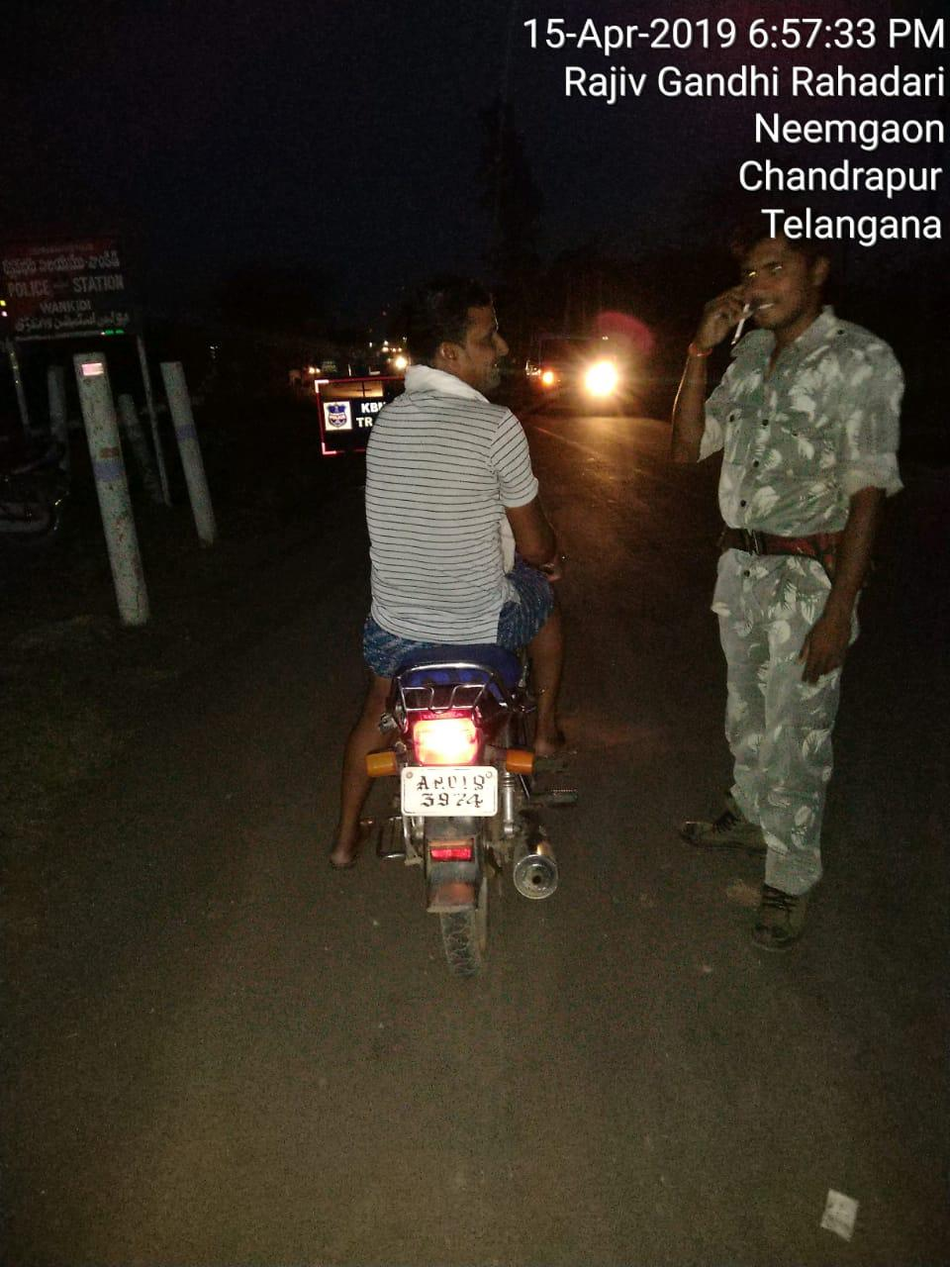plate: (388, 757, 517, 839)
